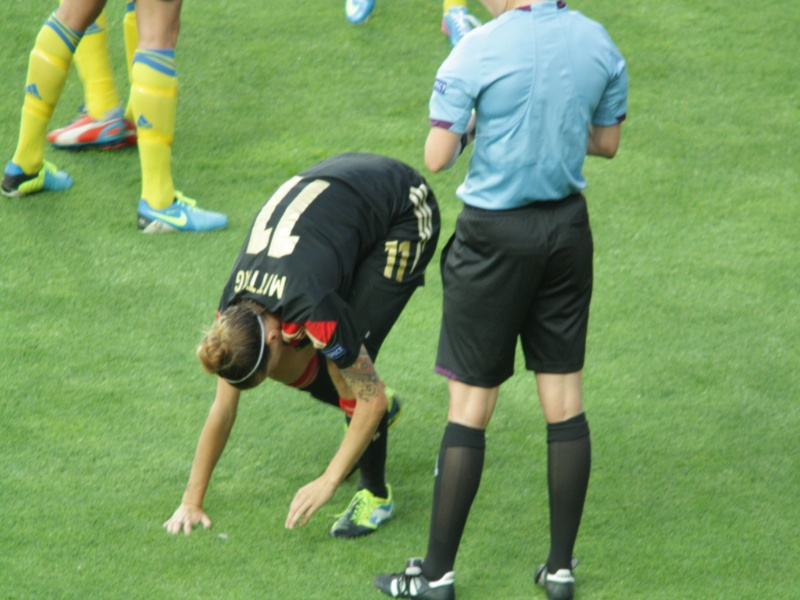person: (192, 146, 432, 540), (454, 1, 611, 599)
